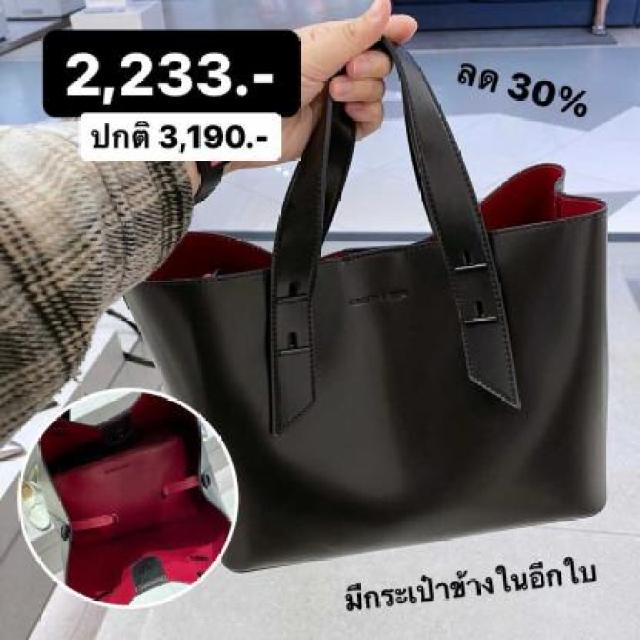Bag: (117, 27, 626, 636)
